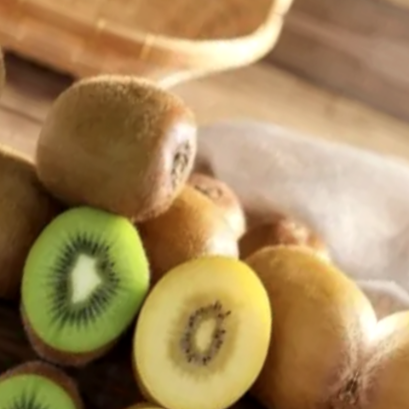kiwi: (175, 199, 403, 409), (10, 41, 229, 242)
